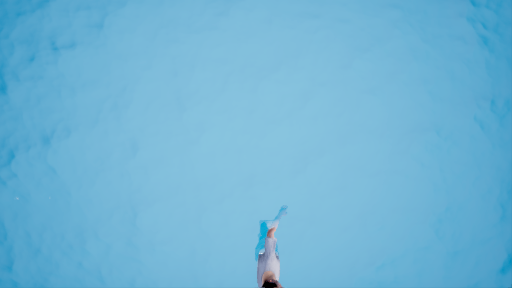person: (240, 204, 289, 284)
